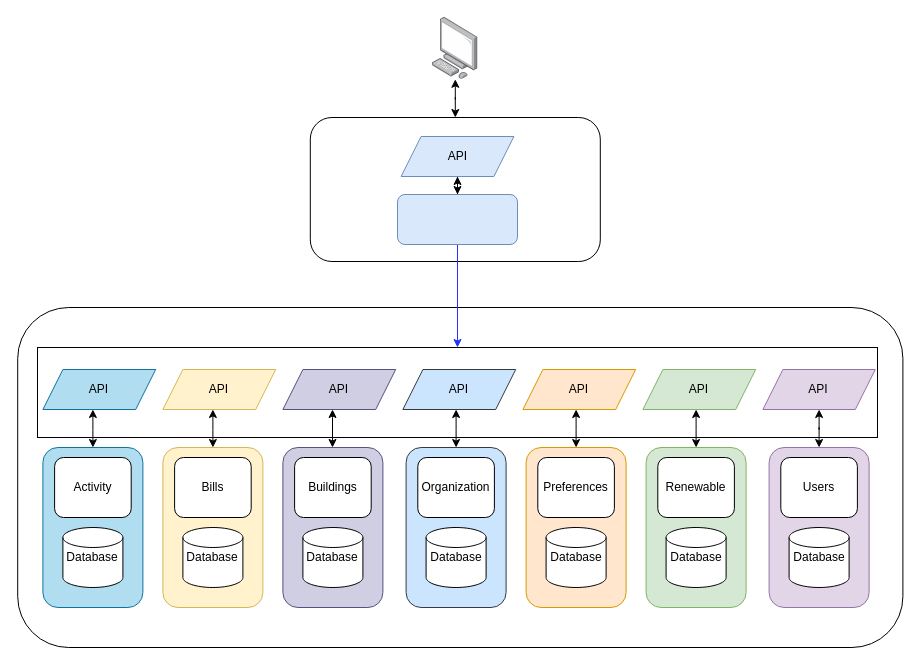
This 921x665 diagram has some shape labels left out. Each missing label, with the centre of its shape:
"Client" goes at pixel 455 48.
"Gateway" goes at pixel 457 219.
